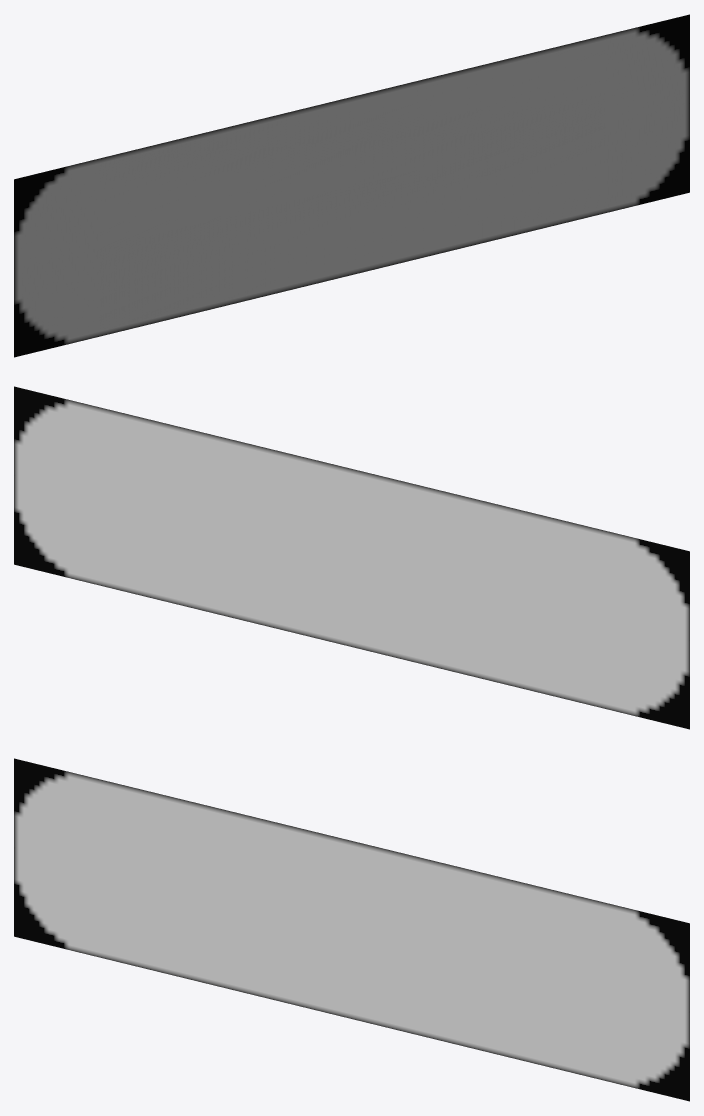
3 views of the same model, one above another, from view 1: azimuth 30°, elevation 25°; view 2: azimuth 150°, elevation 25°; view 3: azimuth 330°, elevation 25° (orthographic).
Visible parts, largest first — view 1: Joint_0_Object_0; view 2: Joint_0_Object_0; view 3: Joint_0_Object_0.
Part boxes in pixels (left/top/right/bottom): Joint_0_Object_0: left=14, top=14, right=689, bottom=357; Joint_0_Object_0: left=14, top=386, right=689, bottom=729; Joint_0_Object_0: left=14, top=758, right=689, bottom=1101.
Size of the model in its own units: 60.75 by 15.3 by 0.
1 material, 1 textured.
